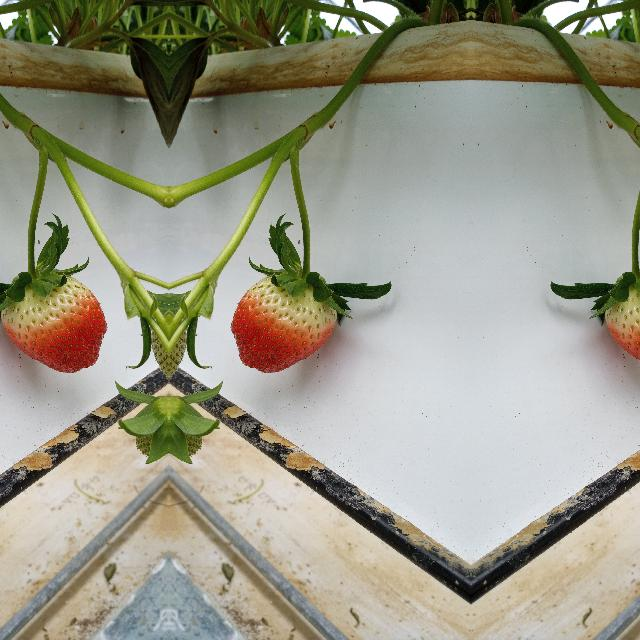Health_75: (230, 274, 336, 374), (0, 274, 106, 373), (604, 274, 640, 373)
